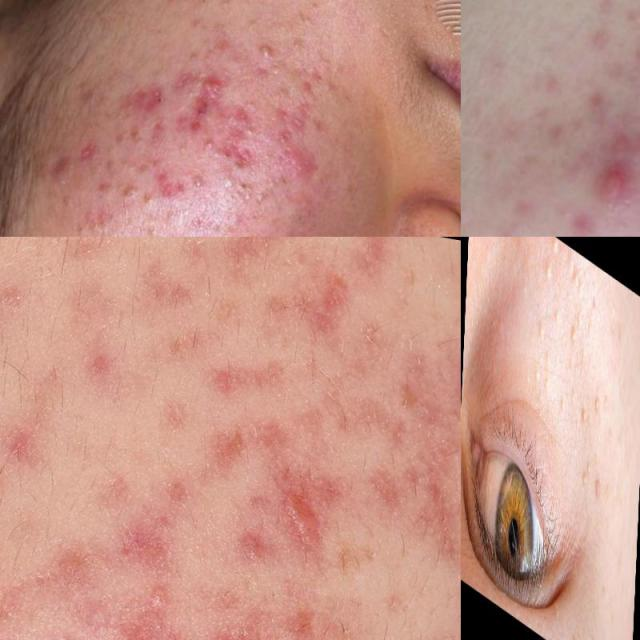acne_scars: (391, 465, 461, 564), (175, 91, 268, 144), (300, 260, 356, 323), (142, 166, 185, 208), (280, 145, 322, 183)
comedone: (225, 173, 272, 214), (192, 133, 232, 165), (182, 163, 218, 198), (113, 155, 145, 180), (126, 126, 148, 152), (262, 60, 286, 83)
keloid: (262, 459, 354, 574)
milium: (531, 312, 555, 400), (566, 293, 584, 372), (542, 237, 560, 299), (574, 392, 592, 448), (579, 446, 594, 498), (564, 251, 580, 299), (592, 468, 603, 511), (602, 387, 610, 425), (594, 393, 600, 422)
papule: (581, 154, 640, 216)
pustule: (244, 30, 279, 70)
sebo-crystan-conglo: (39, 143, 84, 188), (131, 78, 171, 125), (190, 67, 229, 106), (63, 207, 111, 237), (119, 174, 148, 203)
